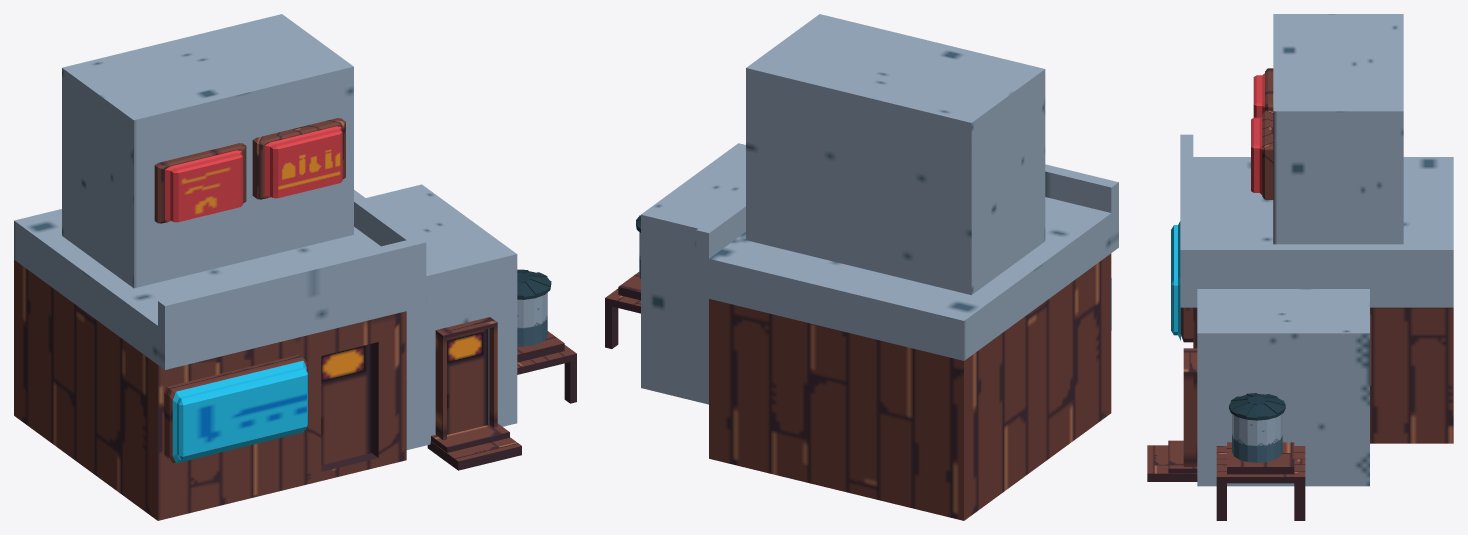
The model's file is CasaT2.fbx.
3 renders of one model, left to right at view 1: azimuth 30°, elevation 25°; view 2: azimuth 150°, elevation 25°; view 3: azimuth 270°, elevation 25°, orthographic. The views are drawn at different scales.
Visible parts, largest first — view 1: Casa com gerador.001; view 2: Casa com gerador.001; view 3: Casa com gerador.001.
Boxes of the visible parts, x1,y1,x2,y2 form: Casa com gerador.001: [14, 14, 576, 520]; Casa com gerador.001: [605, 14, 1118, 520]; Casa com gerador.001: [1147, 14, 1453, 520].
Bounding box in the file's own units: 994 × 674 × 798.
